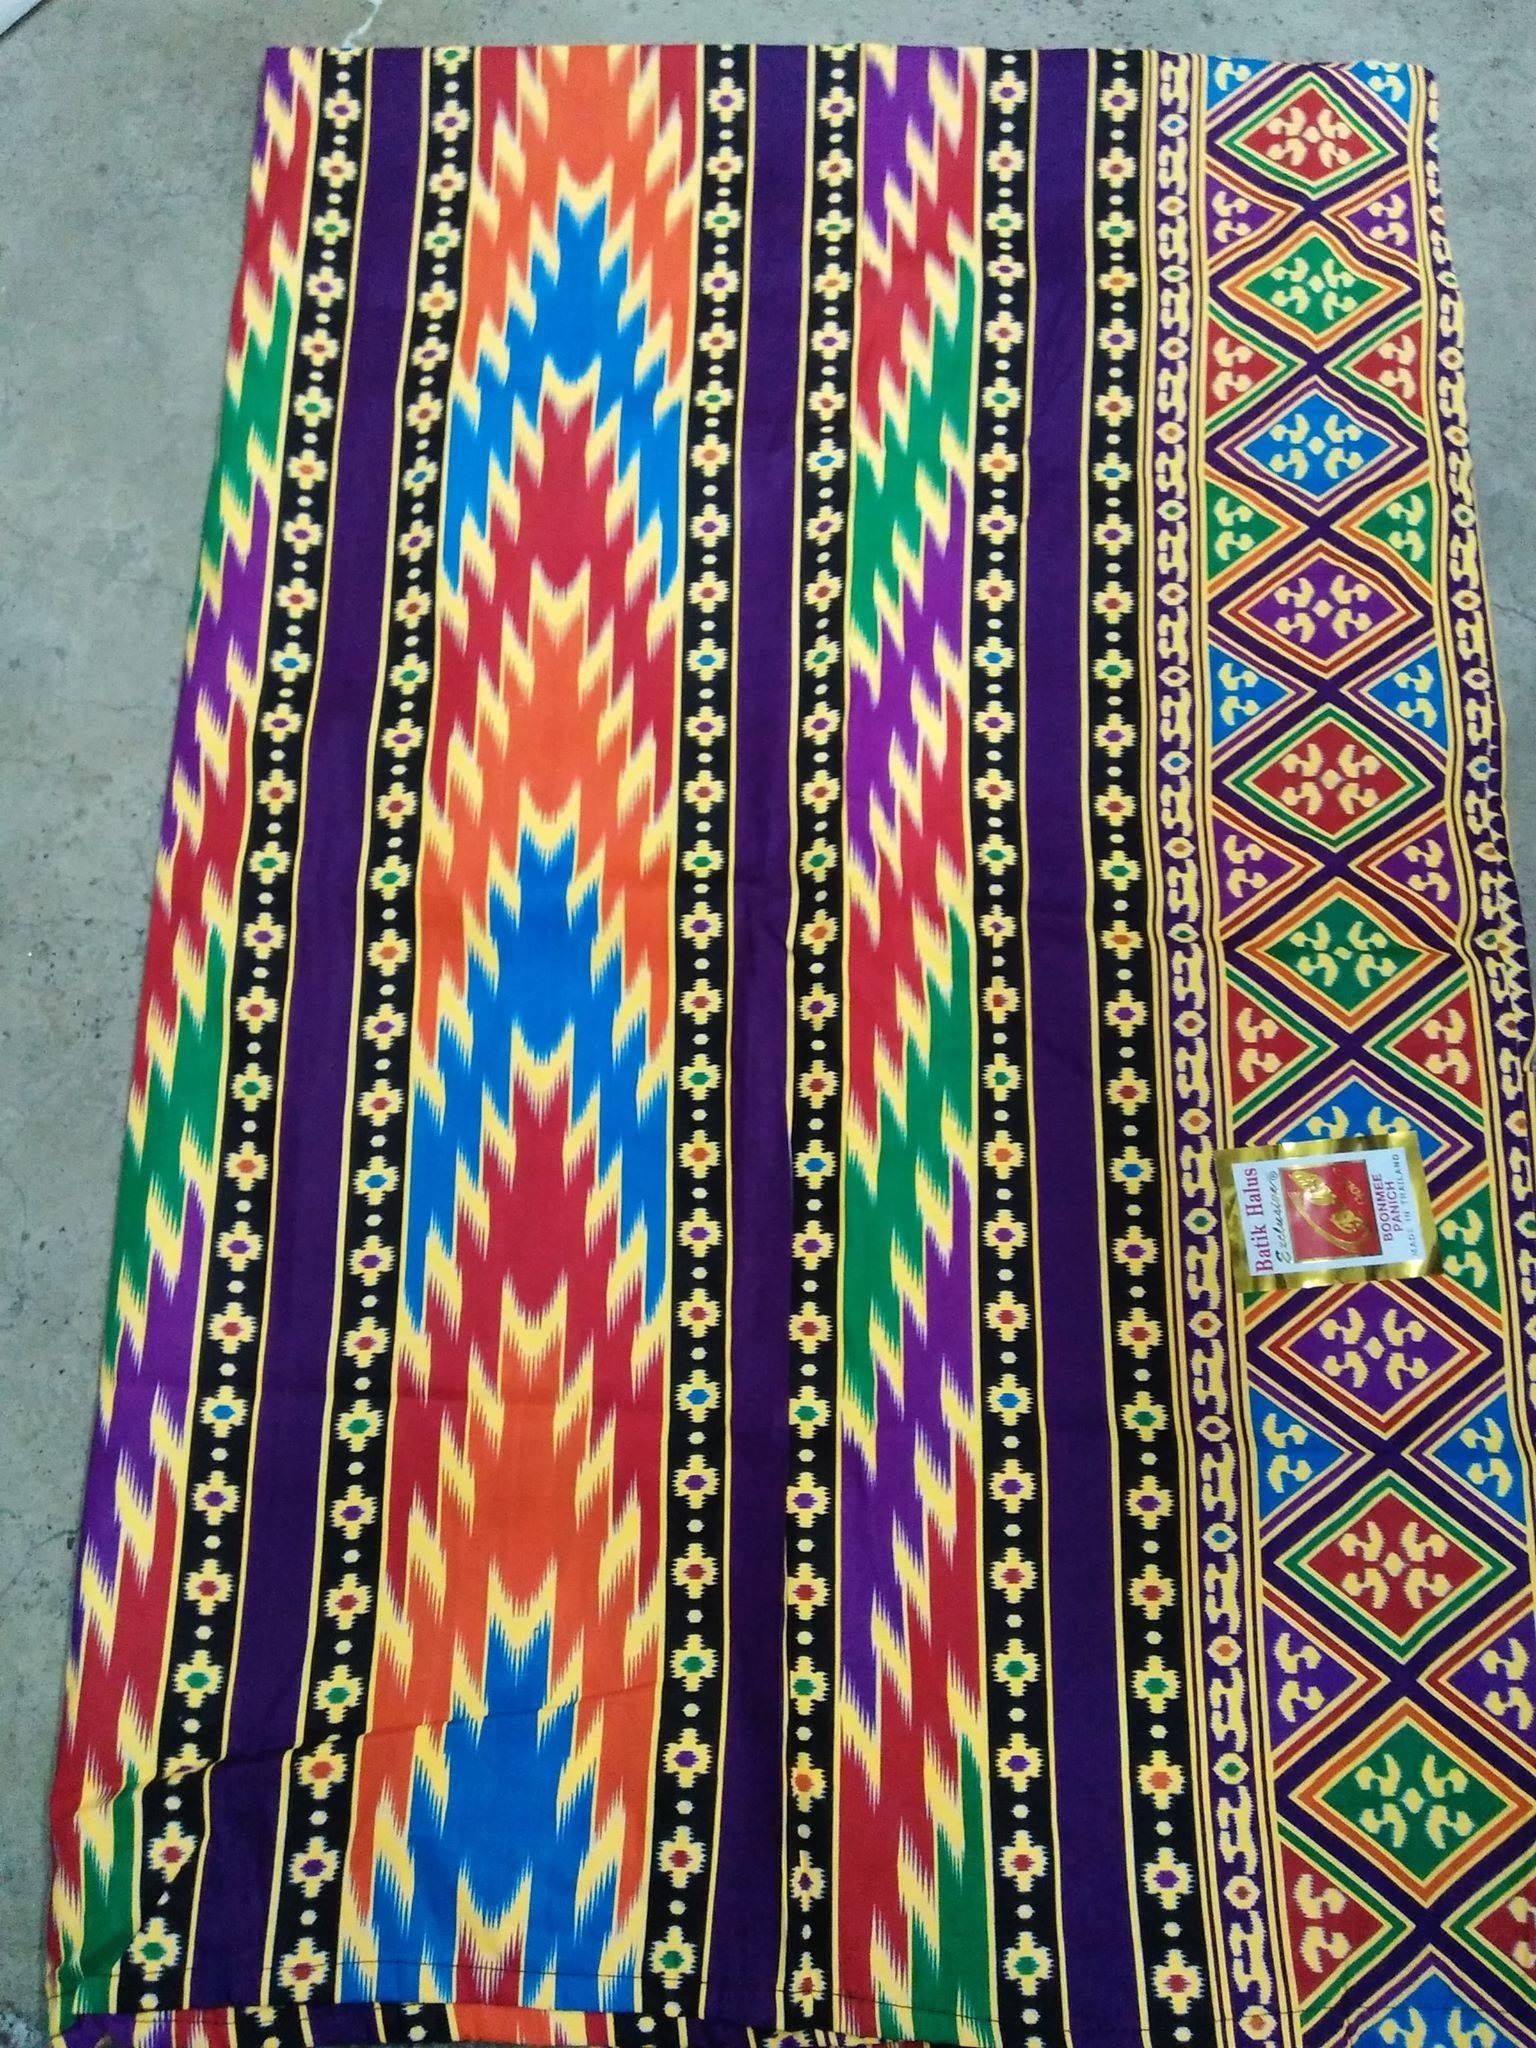malong: (35, 23, 1534, 2048)
